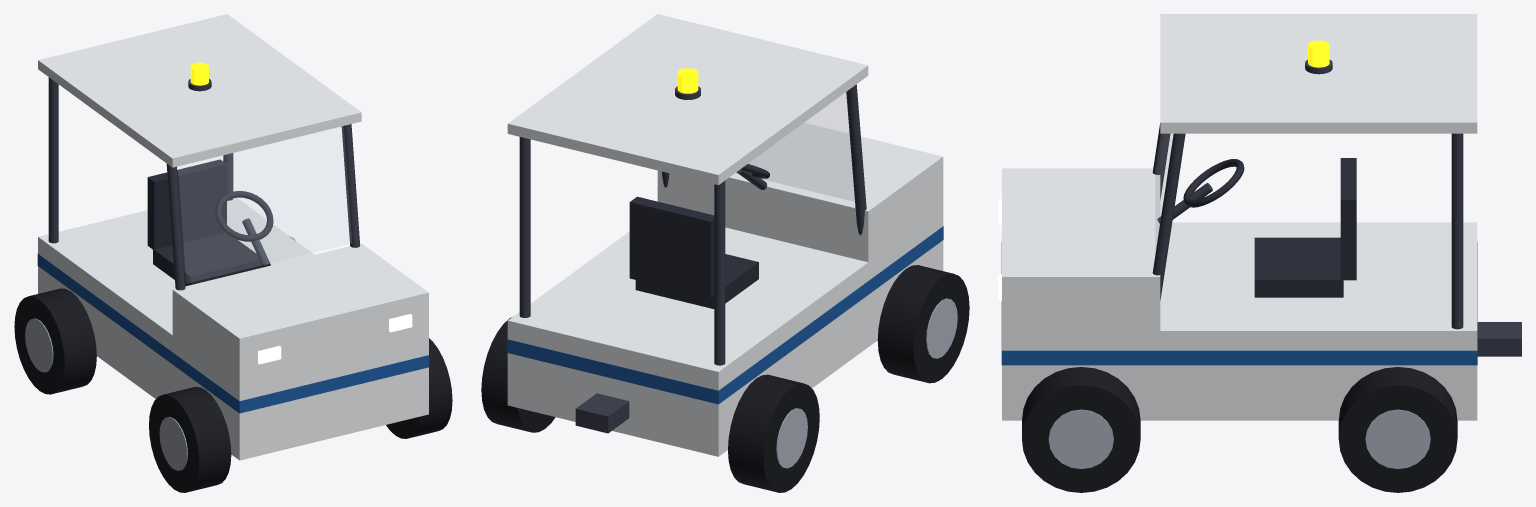
File: air-011.glb
3 renders of one model, left to right at view 1: azimuth 30°, elevation 25°; view 2: azimuth 150°, elevation 25°; view 3: azimuth 270°, elevation 25°, orthographic. The views are drawn at different scales.
Parts seen in each view (by area): view 1: body, roof, hood, windscreen, tire (×3), body_stripe, seat_back, seat, hub (×2), cab_post_rear_left, cab_post_front_left, cab_post_front_right (+1 smaller); view 2: body, roof, hood, tire (×3), seat_back, body_stripe, windscreen, hub (×2), cab_post_rear_left, cab_post_rear_right, seat, tow_hitch (+2 smaller); view 3: body, roof, hood, tire (×2), body_stripe, hub (×2), seat, cab_post_rear_right, seat_back, cab_post_front_right, tow_hitch, steering_wheel (+3 smaller).
Boxes of the visible parts, <box> form: body: <box>38,197,428,460</box>; roof: <box>38,14,361,167</box>; hood: <box>172,243,428,384</box>; windscreen: <box>178,126,351,282</box>; tire (×3): <box>14,288,452,492</box>; body_stripe: <box>37,253,429,413</box>; seat_back: <box>147,159,226,250</box>; seat: <box>153,232,262,286</box>; hub (×2): <box>25,318,187,470</box>; cab_post_rear_left: <box>48,77,58,243</box>; cab_post_front_left: <box>166,164,185,290</box>; cab_post_front_right: <box>341,124,360,247</box>; body: <box>507,208,943,456</box>; roof: <box>507,14,868,185</box>; hood: <box>657,122,943,262</box>; tire (×3): <box>481,265,969,492</box>; seat_back: <box>629,196,714,298</box>; body_stripe: <box>507,226,943,404</box>; windscreen: <box>749,93,854,201</box>; hub (×2): <box>776,298,957,468</box>; cab_post_rear_left: <box>714,180,725,365</box>; cab_post_rear_right: <box>519,137,530,317</box>; seat: <box>635,254,758,308</box>; tow_hitch: <box>575,393,629,433</box>; body: <box>1002,222,1477,420</box>; roof: <box>1160,14,1477,133</box>; hood: <box>1002,168,1160,330</box>; tire (×2): <box>1022,367,1457,492</box>; body_stripe: <box>1001,242,1477,365</box>; hub (×2): <box>1048,409,1430,468</box>; seat: <box>1254,237,1343,297</box>; cab_post_rear_right: <box>1451,133,1463,329</box>; seat_back: <box>1340,158,1356,280</box>; cab_post_front_right: <box>1152,133,1185,300</box>; tow_hitch: <box>1477,322,1521,356</box>; steering_wheel: <box>1183,159,1244,207</box>.
Bounding box in the file's own units: 1.75 × 2.09 × 2.64.
